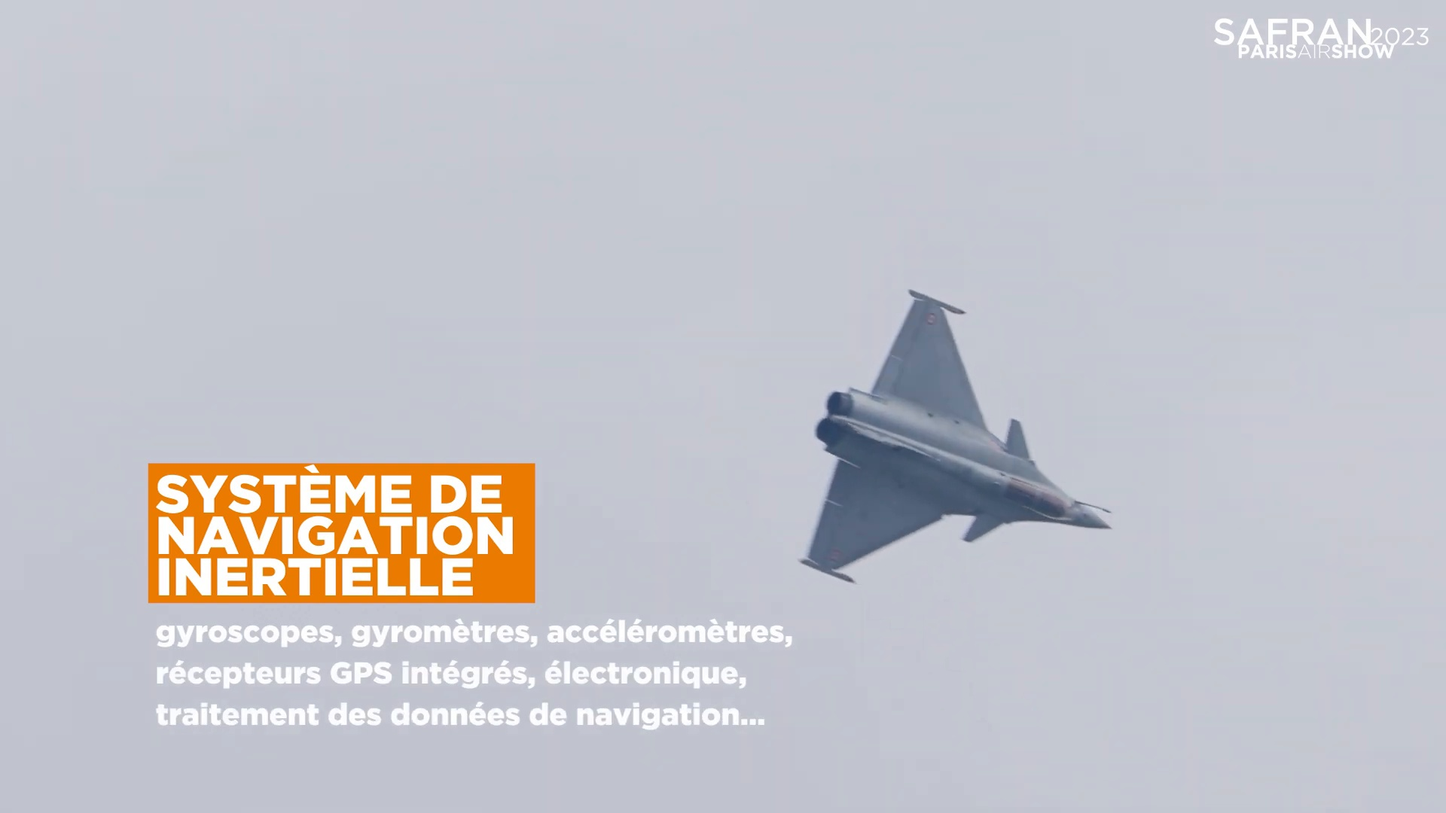Rafale: (796, 289, 1114, 586)
